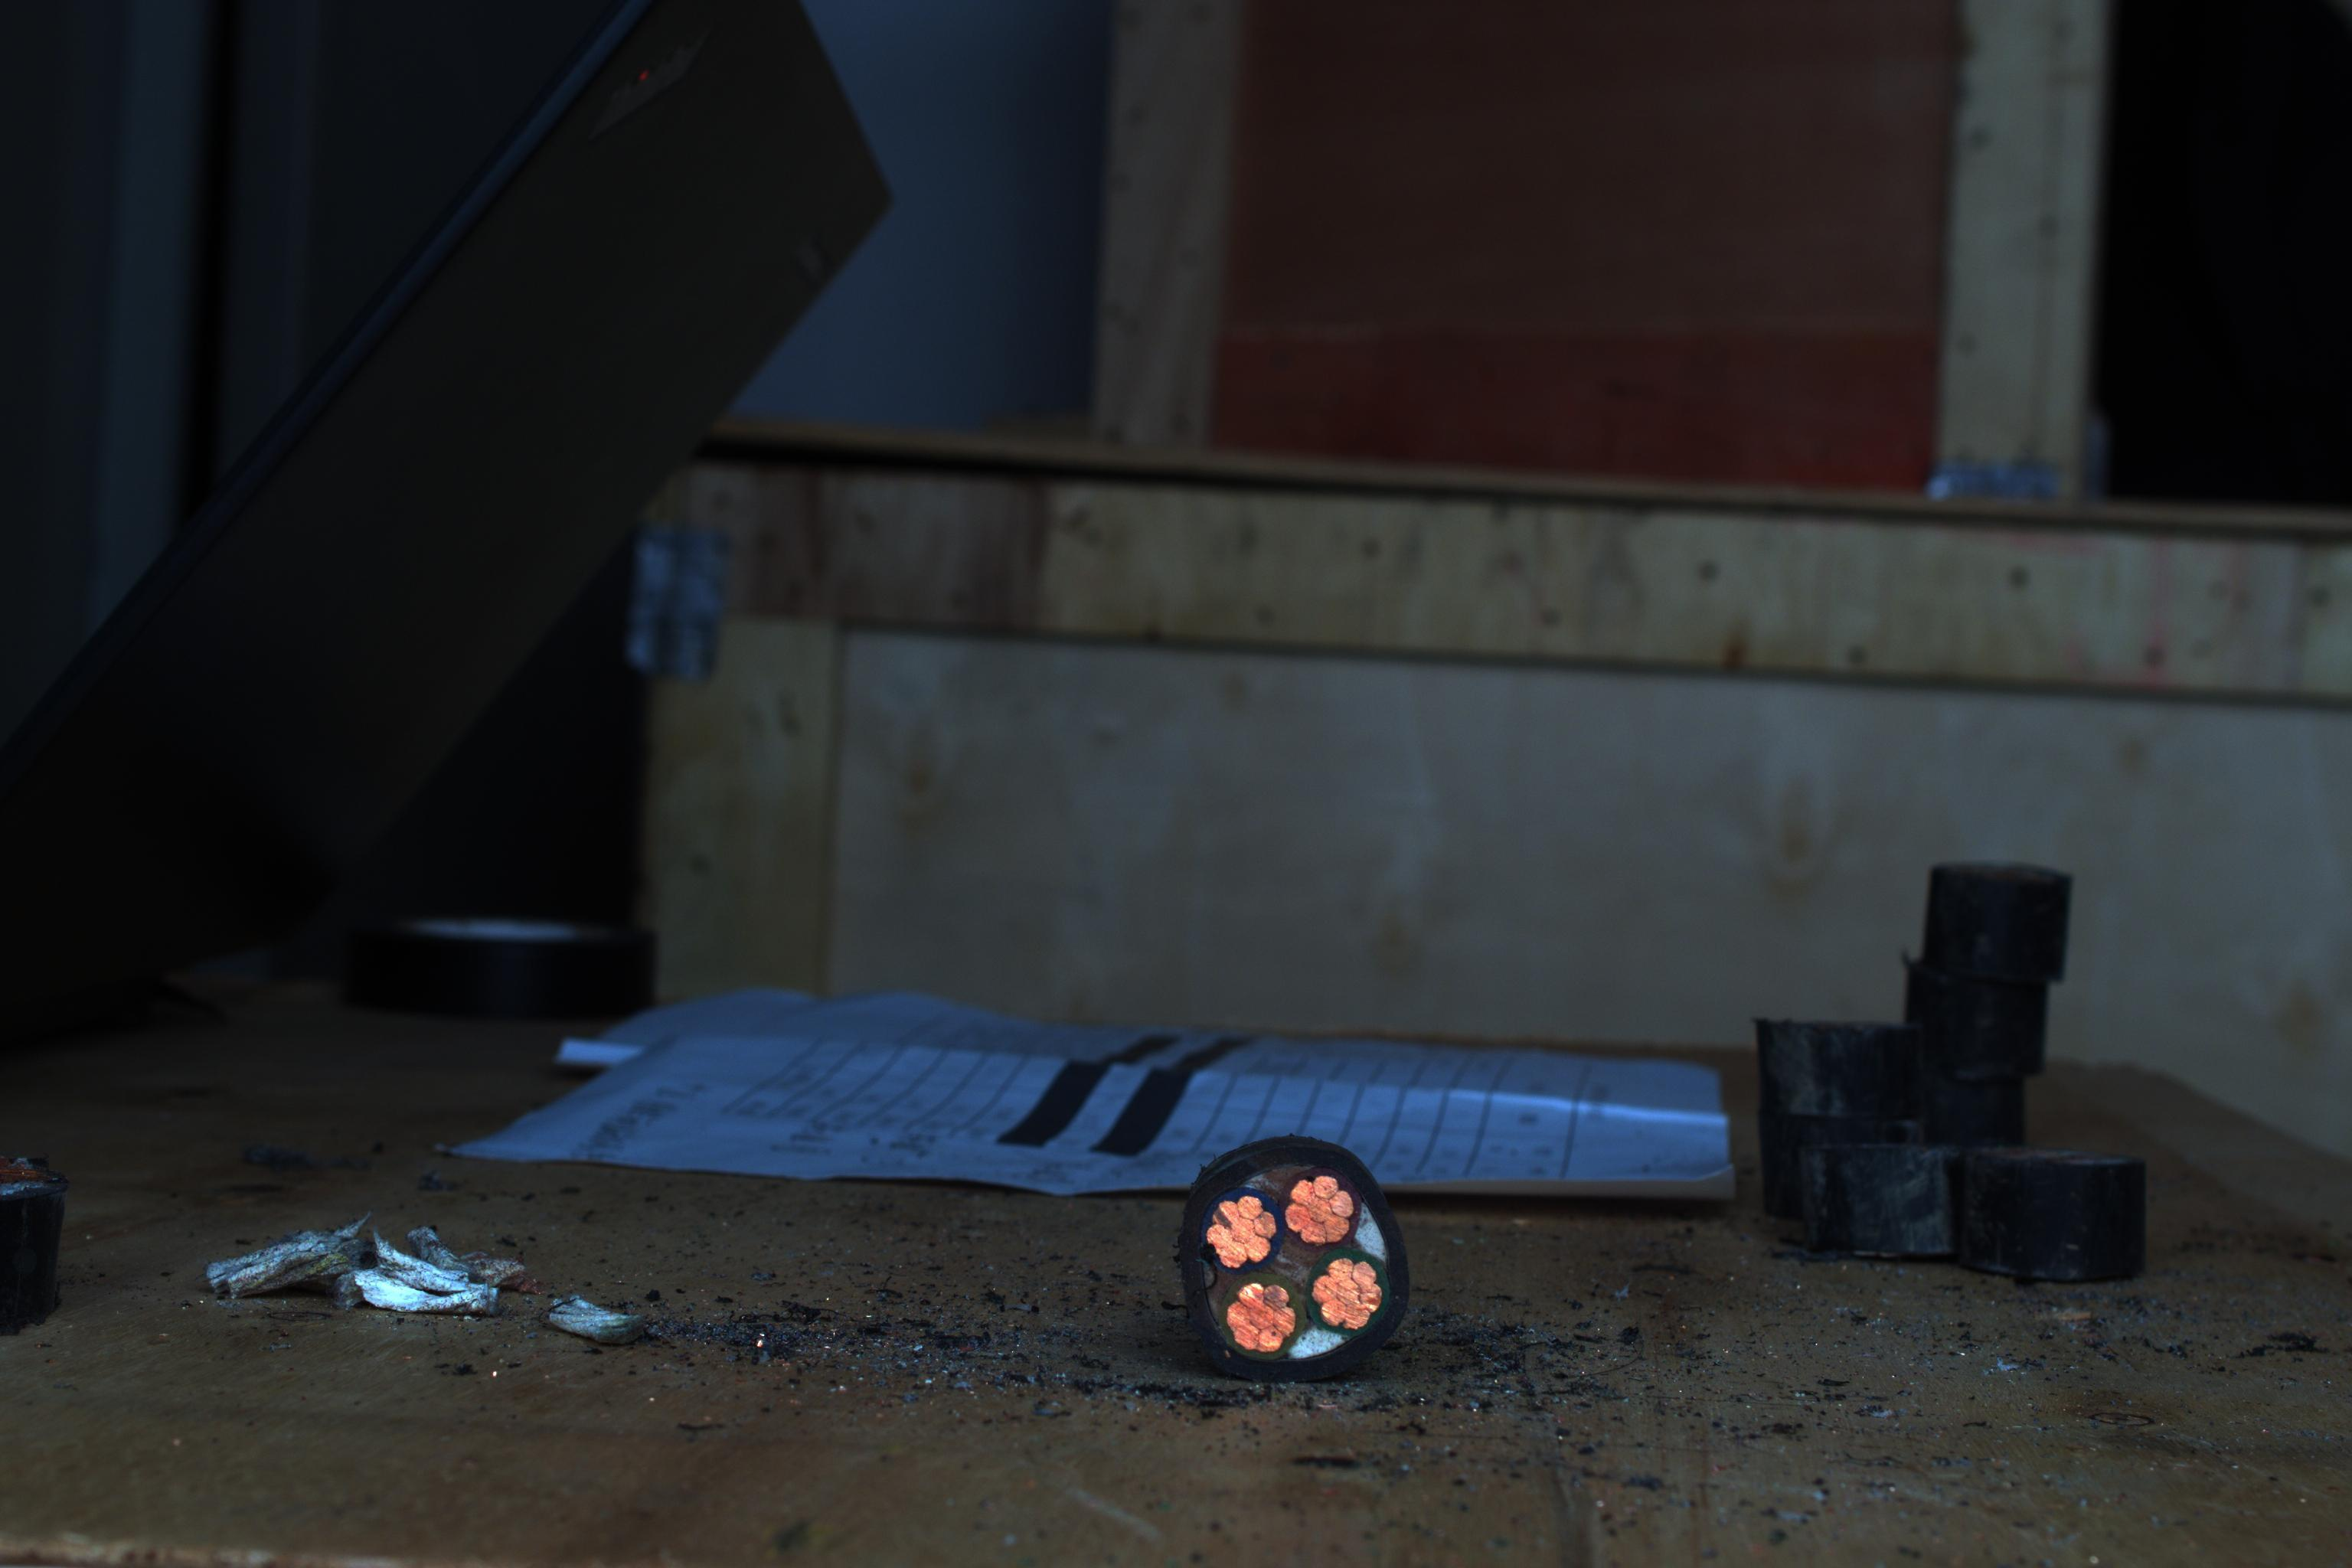YJV_0.6_1kV_4x35: (1162, 1137, 1412, 1379)
